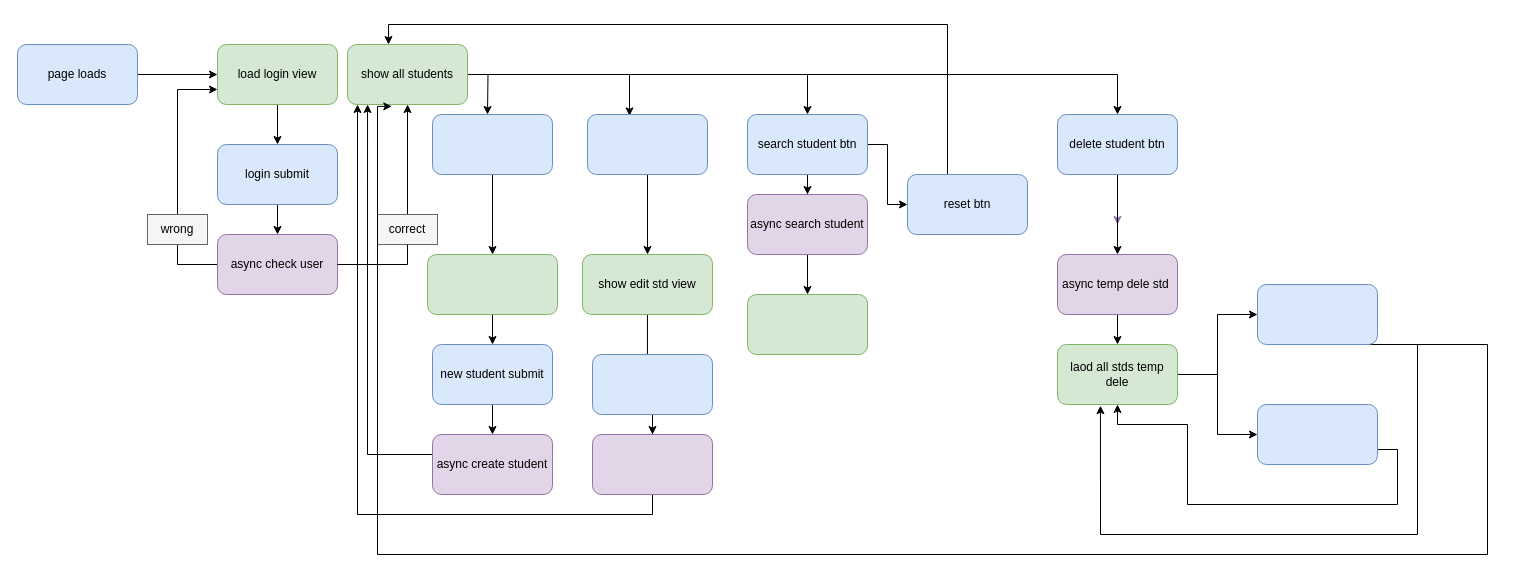
Some shapes in this 1513 by 580 pixel diagram are drawn without their labels. Here are the shapes that lost their labels. From the top down, the centre of each, then its label:
At pixel 492 144: "new student btn".
At pixel 647 144: "edit student btn".
At pixel 492 284: "show new student view".
At pixel 807 324: "show searched data".
At pixel 1317 314: "restore std btn".
At pixel 652 384: "edit student submit".
At pixel 1317 434: "permenant del std btn".
At pixel 652 464: "async edit student".
